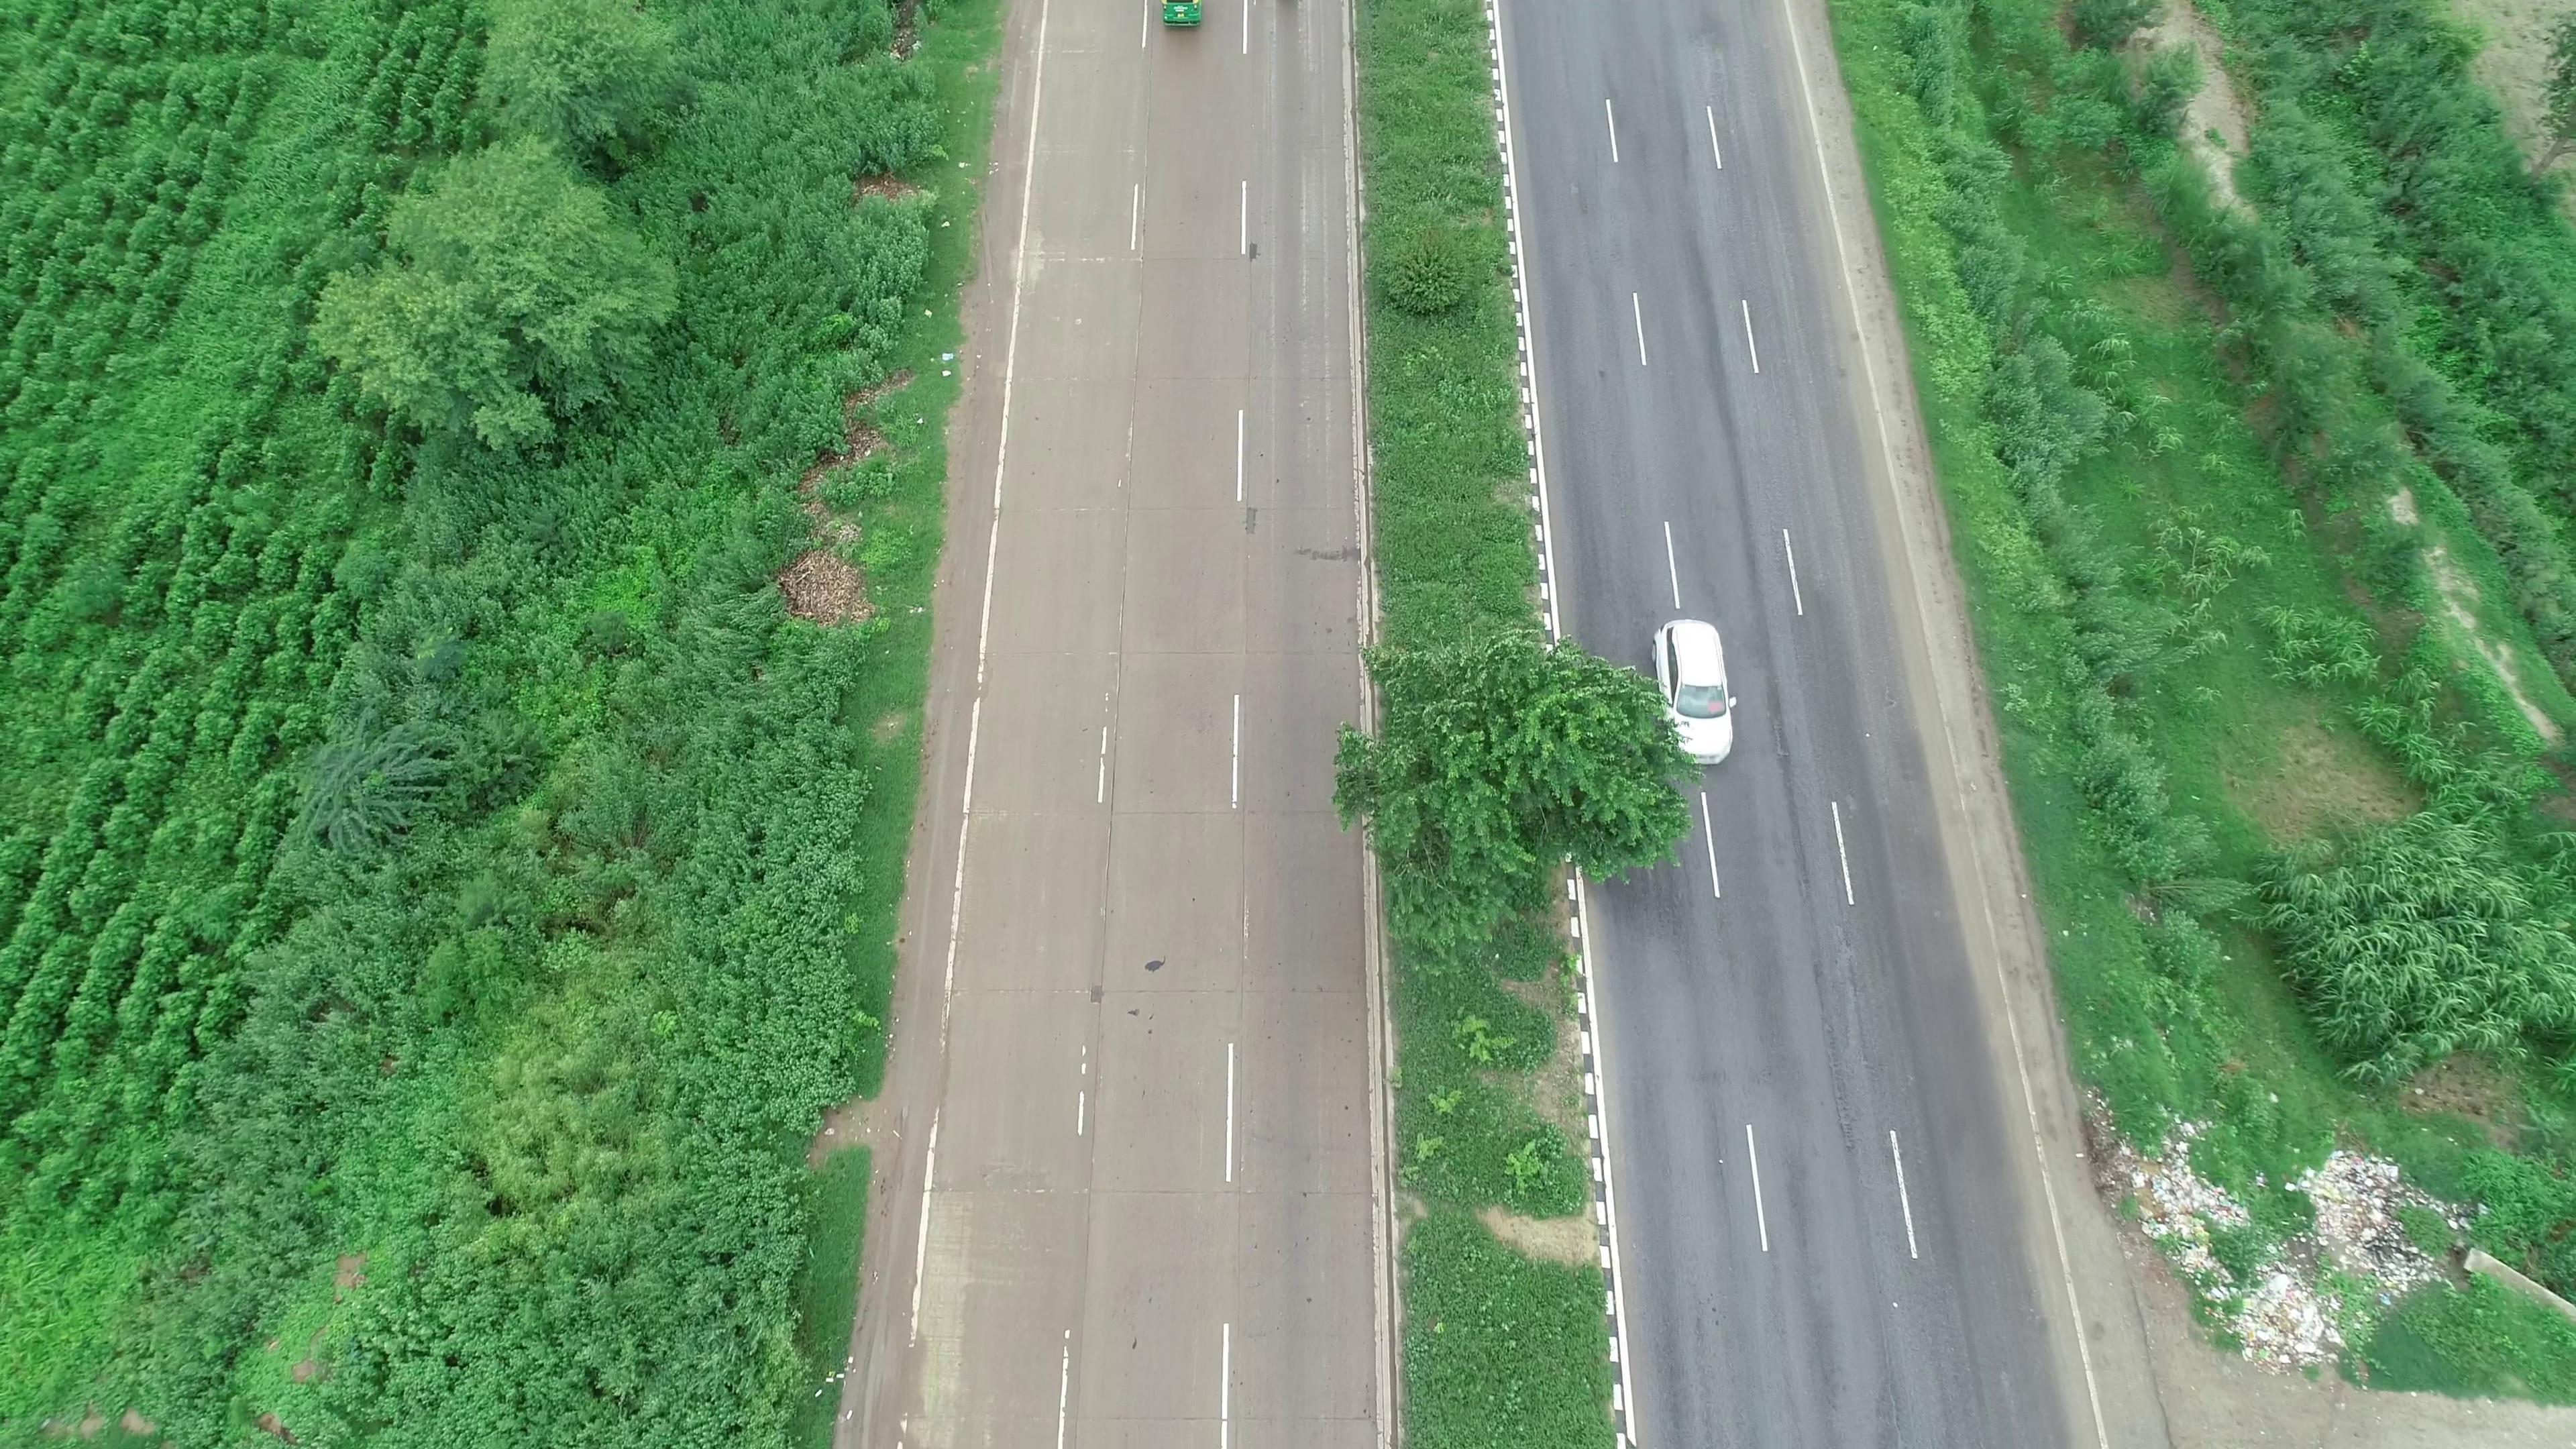Road_side_garbage: (2141, 1148, 2427, 1362)
